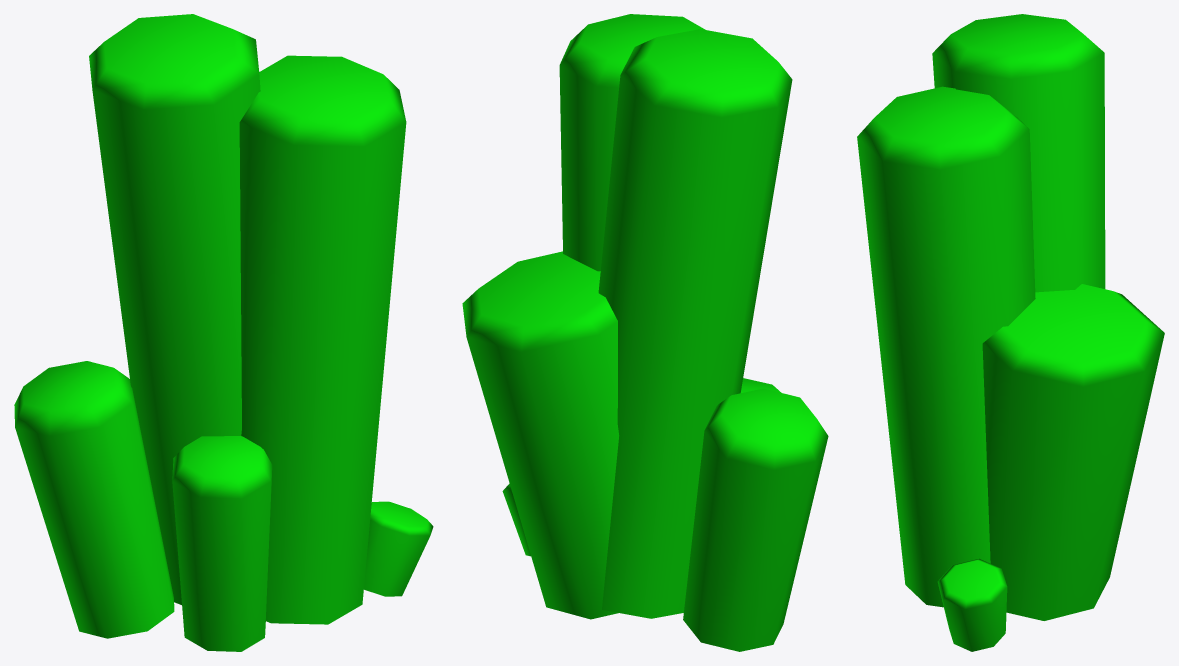
File: m_crystal2.fbx
3 renders of one model, left to right at view 1: azimuth 30°, elevation 25°; view 2: azimuth 150°, elevation 25°; view 3: azimuth 270°, elevation 25°, orthographic. The views are drawn at different scales.
Parts seen in each view (by area): view 1: m_crystals2; view 2: m_crystals2; view 3: m_crystals2.
Boxes of the visible parts, bbox=[...] form: m_crystals2: bbox=[14, 14, 433, 651]; m_crystals2: bbox=[462, 14, 828, 651]; m_crystals2: bbox=[857, 14, 1164, 651].
Size of the model in its own units: 1.88 by 2.84 by 1.49.
